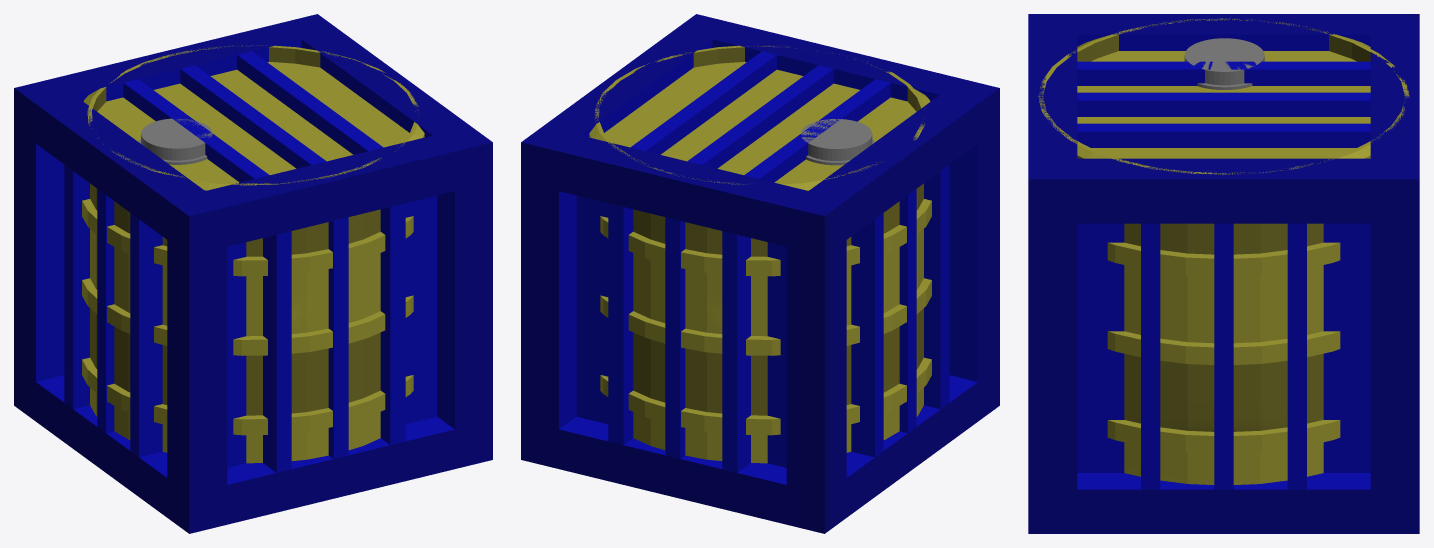
Rendered from ModularShip.fbx.
3 renders of one model, left to right at view 1: azimuth 30°, elevation 25°; view 2: azimuth 150°, elevation 25°; view 3: azimuth 270°, elevation 25°, orthographic. The views are drawn at different scales.
Visible parts, largest first — view 1: Container_Blue, Barrel_Yellow; view 2: Container_Blue, Barrel_Yellow; view 3: Container_Blue, Barrel_Yellow.
Boxes of the visible parts, x1=… form: Container_Blue: x1=14, y1=14, x2=492, y2=533; Barrel_Yellow: x1=82, y1=45, x2=424, y2=463; Container_Blue: x1=521, y1=14, x2=999, y2=533; Barrel_Yellow: x1=589, y1=45, x2=931, y2=463; Container_Blue: x1=1028, y1=14, x2=1419, y2=533; Barrel_Yellow: x1=1038, y1=18, x2=1409, y2=484.
Bounding box in the file's own units: 80 × 80 × 80.
